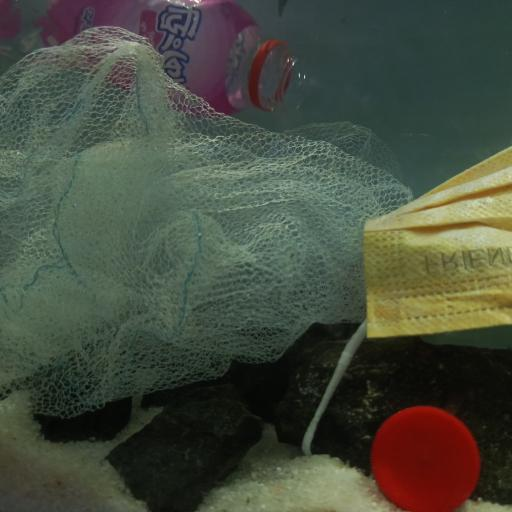bottle_cap: (373, 406, 478, 512)
mask: (336, 138, 512, 372)
net: (0, 23, 416, 403)
plastic_bottle: (1, 0, 311, 115)
